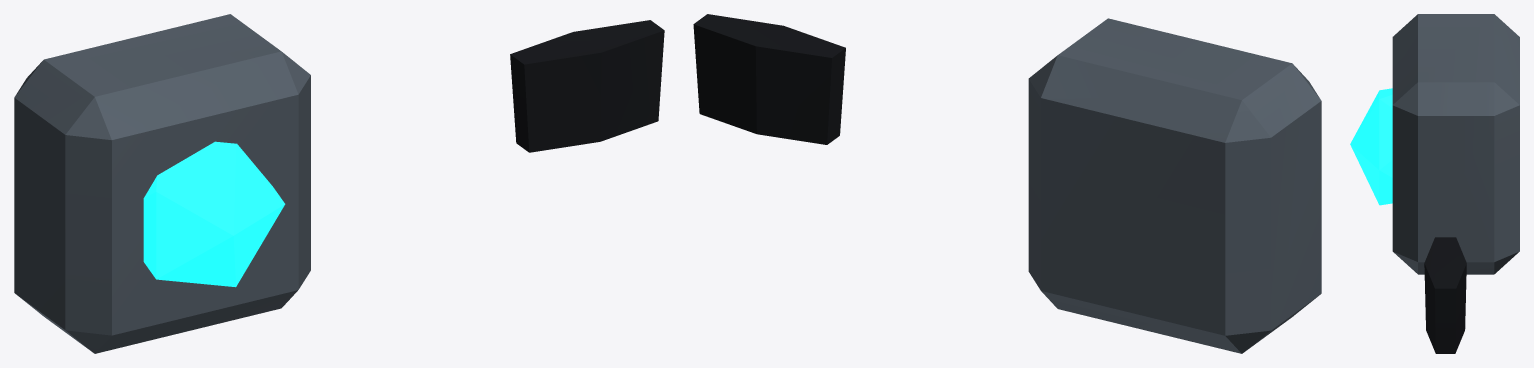
File: eyes.cyber.glb
3 views of the same model, side by side, from view 1: azimuth 30°, elevation 25°; view 2: azimuth 150°, elevation 25°; view 3: azimuth 270°, elevation 25° (orthographic). The views are drawn at different scales.
Parts seen in each view (by area): view 1: head@cyber.base, head@cyber.emissive.cyan; view 2: head@cyber.base; view 3: head@cyber.base, head@cyber.emissive.cyan.
Boxes of the visible parts, x1,y1,x2,y2 form: head@cyber.base: (14,14,664,353); head@cyber.emissive.cyan: (143,141,285,287); head@cyber.base: (693,14,1321,353); head@cyber.base: (1392,14,1519,353); head@cyber.emissive.cyan: (1350,88,1392,205).
Bounding box in the file's own units: 0.2113 × 0.085 × 0.068.
